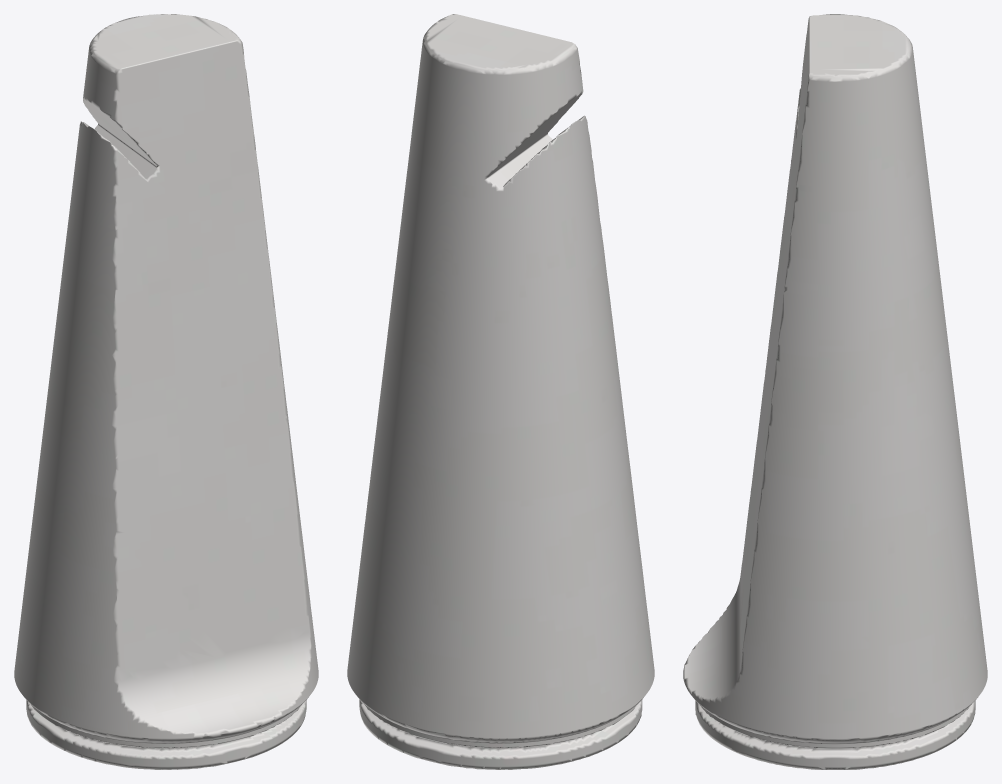
The model's file is bishop-white-hd.glb.
3 views of the same model, side by side, from view 1: azimuth 30°, elevation 25°; view 2: azimuth 150°, elevation 25°; view 3: azimuth 270°, elevation 25° (orthographic).
Visible parts, largest first — view 1: 03_strelec_bila; view 2: 03_strelec_bila; view 3: 03_strelec_bila.
Part boxes in pixels (x1,y1,x2,y2): 03_strelec_bila: [14, 14, 318, 769]; 03_strelec_bila: [347, 14, 654, 769]; 03_strelec_bila: [683, 14, 987, 769].
Bounding box in the file's own units: 0.5622 × 1.36 × 0.5624.
1 material, 1 textured.
